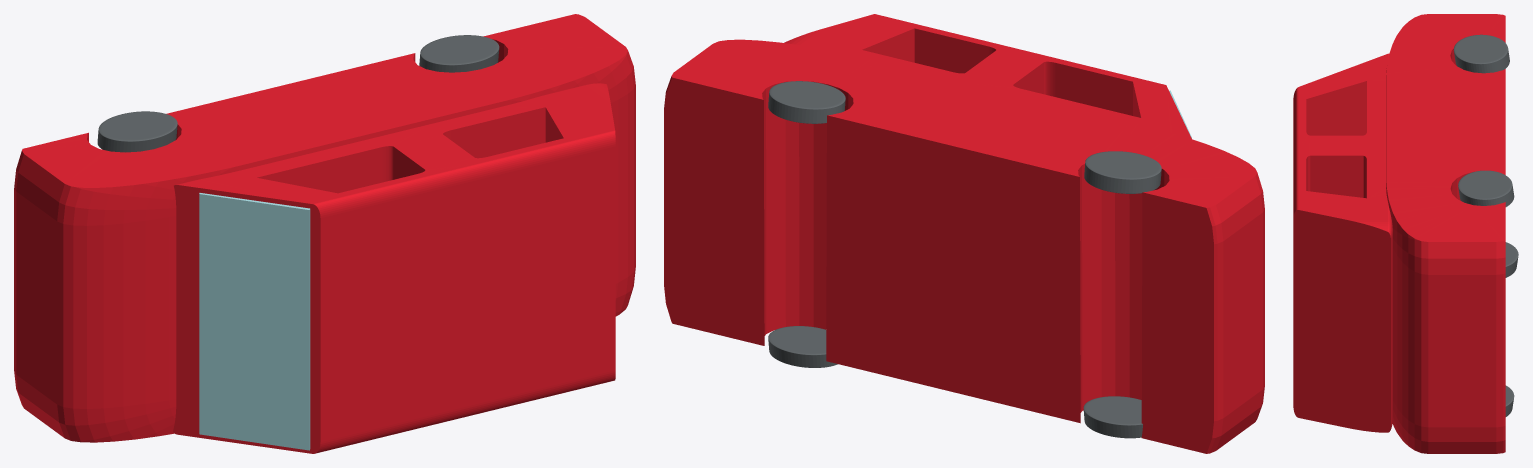
Rendered from tinker.obj.
3 views of the same model, side by side, from view 1: azimuth 30°, elevation 25°; view 2: azimuth 150°, elevation 25°; view 3: azimuth 270°, elevation 25° (orthographic). The views are drawn at different scales.
Parts seen in each view (by area): view 1: group_0_15277357, group_0_11593967, group_0_6383466; view 2: group_0_15277357, group_0_6383466; view 3: group_0_15277357, group_0_6383466.
Part boxes in pixels (left/top/right/bottom): group_0_15277357: left=14, top=14, right=635, bottom=453; group_0_11593967: left=199, top=193, right=310, bottom=450; group_0_6383466: left=97, top=35, right=499, bottom=152; group_0_15277357: left=664, top=14, right=1264, bottom=453; group_0_6383466: left=768, top=81, right=1161, bottom=438; group_0_15277357: left=1293, top=14, right=1505, bottom=453; group_0_6383466: left=1453, top=34, right=1518, bottom=416.
Bounding box in the file's own units: 128 × 58 × 52.
